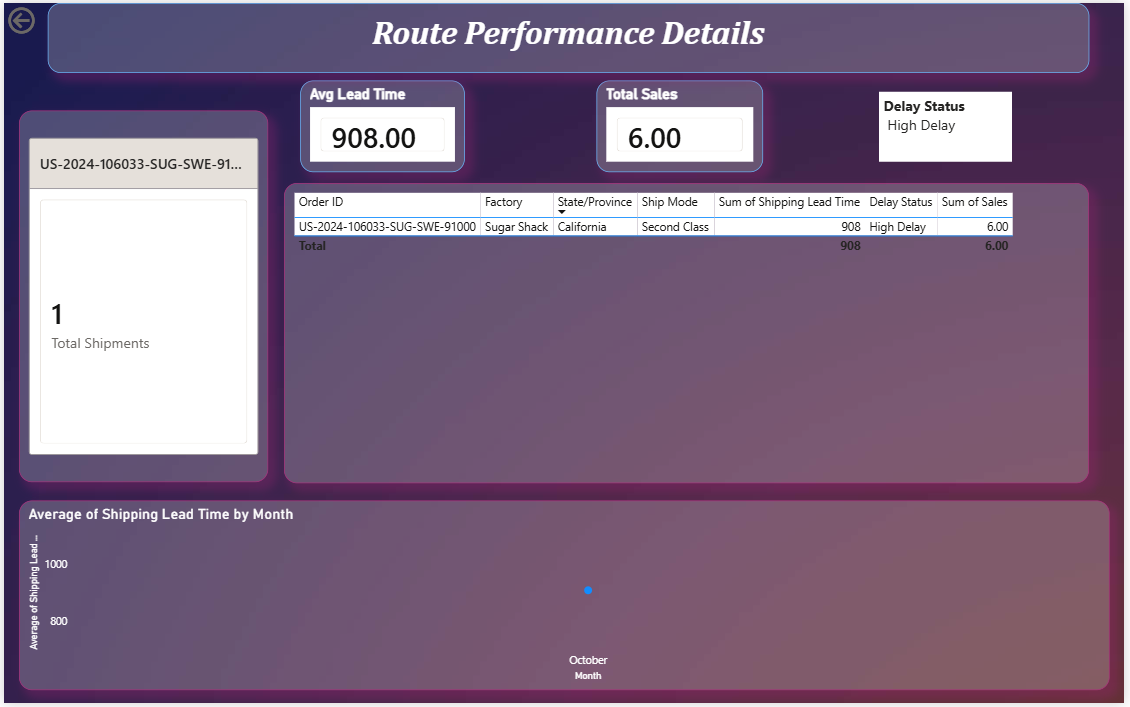

The page's visual inventory and layout, read from the dashboard file:
{"tool":"powerbi","page":{"name":"Route detail","canvas":[1280,800],"ordinal":1},"visuals":[{"type":"actionButton","box":[0,0,100,40],"z":0},{"type":"lineChart","fields":{"Y":["Avg(nassau_candy_clean_dataset.Shipping Lead Time)"],"Category":["nassau_candy_clean_dataset.Order Date.Variation.Date Hierarchy.Month"]},"box":[16.7,568.3,1246.7,216.7],"z":1000},{"type":"cardVisual","title":"Total Sales","fields":{"Data":["nassau_candy_clean_dataset.Total Sales"]},"box":[676.7,88.3,190,105],"z":2000},{"type":"cardVisual","title":"Avg Lead Time","fields":{"Data":["nassau_candy_clean_dataset.Avg Lead Time"]},"box":[338.3,88.3,188.3,105],"z":3000},{"type":"cardVisual","fields":{"Data":["nassau_candy_clean_dataset.Total Shipments"],"Rows":["nassau_candy_clean_dataset.Order ID"]},"box":[16.7,123.3,285,425],"z":4000},{"type":"tableEx","fields":{"Values":["nassau_candy_clean_dataset.Order ID","nassau_candy_clean_dataset.Factory","nassau_candy_clean_dataset.State/Province","nassau_candy_clean_dataset.Ship Mode","Sum(nassau_candy_clean_dataset.Shipping Lead Time)","nassau_candy_clean_dataset.Delay Status","Sum(nassau_candy_clean_dataset.Sales)"]},"box":[320,205,920,343.3],"z":5000},{"type":"actionButton","box":[0,0,100,40],"z":6000},{"type":"textbox","box":[50,0,1190,80],"z":7000},{"type":"textbox","box":[1000,101.7,151.7,80],"z":9000}]}

Visuals, with their boxes in screenshot pixels (x1, y1, x2, y2), scaled from the page's 1280x800 canvas onto the 1130x707 screenshot:
actionButton: box(0, 0, 88, 35)
lineChart - Avg(nassau_candy_clean_dataset.Shipping Lead Time) x nassau_candy_clean_dataset.Order Date.Variation.Date Hierarchy.Month: box(15, 502, 1115, 694)
"Total Sales" cardVisual: box(597, 78, 765, 171)
"Avg Lead Time" cardVisual: box(299, 78, 465, 171)
cardVisual - nassau_candy_clean_dataset.Total Shipments x nassau_candy_clean_dataset.Order ID: box(15, 109, 266, 485)
tableEx - nassau_candy_clean_dataset.Order ID x nassau_candy_clean_dataset.Factory: box(282, 181, 1095, 485)
actionButton: box(0, 0, 88, 35)
textbox: box(44, 0, 1095, 71)
textbox: box(883, 90, 1017, 161)
